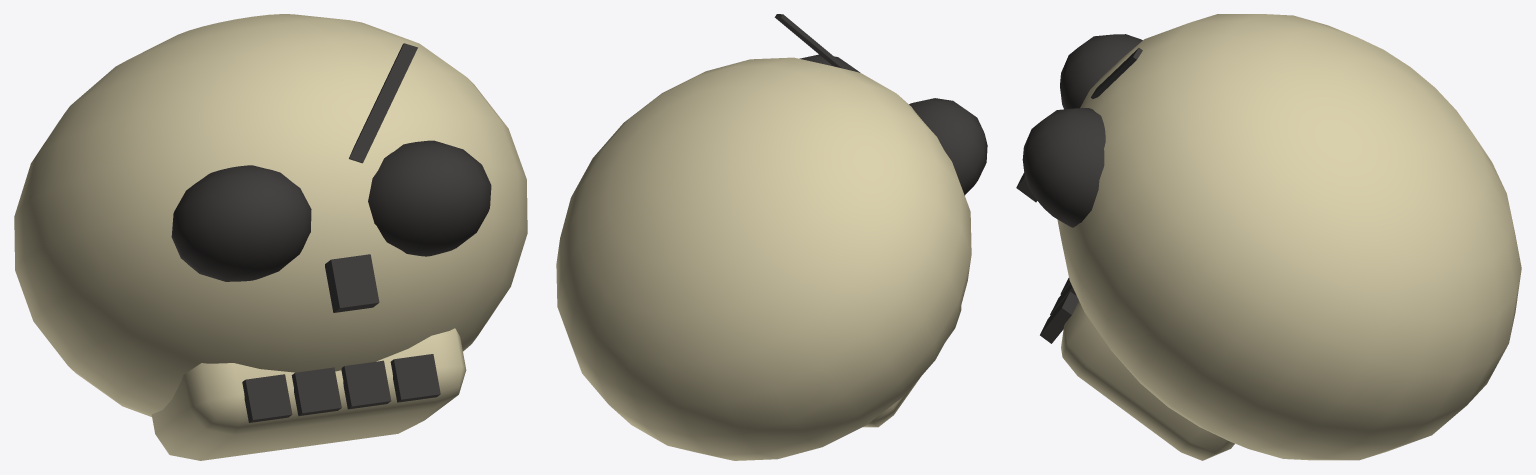
Rendered from dead.glb.
3 views of the same model, side by side, from view 1: azimuth 30°, elevation 25°; view 2: azimuth 150°, elevation 25°; view 3: azimuth 270°, elevation 25° (orthographic). The views are drawn at different scales.
Parts seen in each view (by area): view 1: cranium, jaw, eye, eye.001, nose, crack, tooth1, tooth0, tooth2, tooth3; view 2: cranium, eye, crack, jaw; view 3: cranium, eye.001, jaw, eye, tooth3, crack.
Part boxes in pixels (<box>): cranium: <box>14,14,527,416</box>; jaw: <box>151,328,466,460</box>; eye: <box>171,165,311,281</box>; eye.001: <box>368,140,491,256</box>; nose: <box>325,254,379,312</box>; crack: <box>349,43,417,163</box>; tooth1: <box>291,367,341,416</box>; tooth0: <box>242,374,292,422</box>; tooth2: <box>341,360,391,409</box>; tooth3: <box>390,354,440,402</box>; cranium: <box>556,57,971,460</box>; eye: <box>909,98,987,195</box>; crack: <box>774,14,849,70</box>; jaw: <box>863,306,961,427</box>; cranium: <box>1057,14,1521,460</box>; eye.001: <box>1022,108,1105,227</box>; jaw: <box>1061,301,1234,460</box>; eye: <box>1060,34,1142,109</box>; tooth3: <box>1040,291,1078,343</box>; crack: <box>1091,48,1142,98</box>.
Bounding box in the file's own units: 0.9889 × 0.9133 × 1.02.
